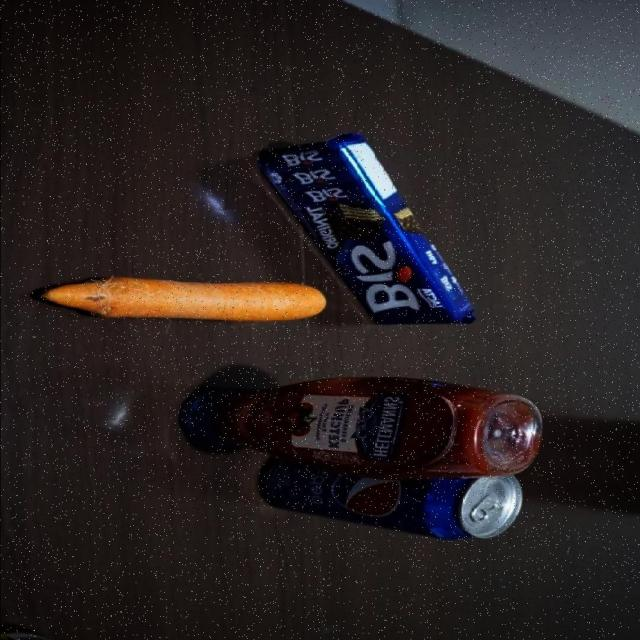Carrot: (46, 276, 325, 324)
Ketchup: (170, 378, 542, 478)
SodaCan: (252, 462, 534, 545)
